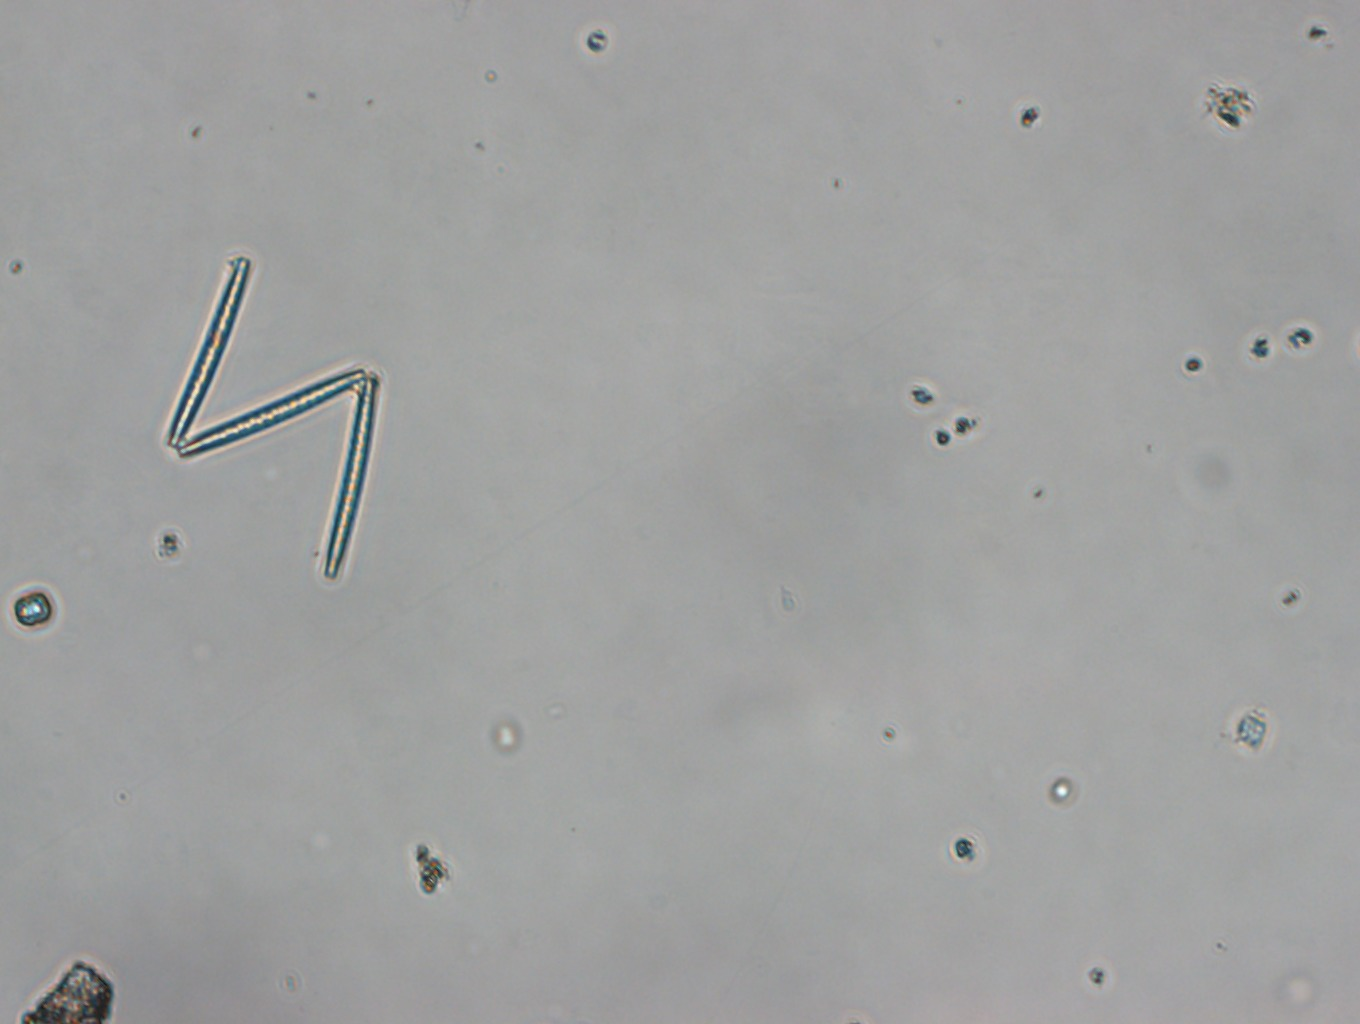thalassionema nitzschioides: (154, 248, 391, 584)
